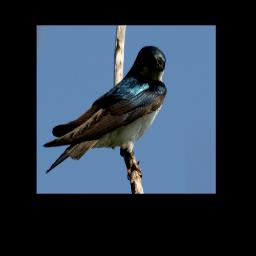Swallow: (42, 46, 167, 182)
